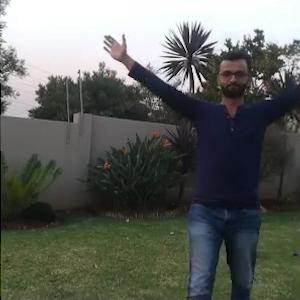takeoff: (129, 37, 299, 296)
